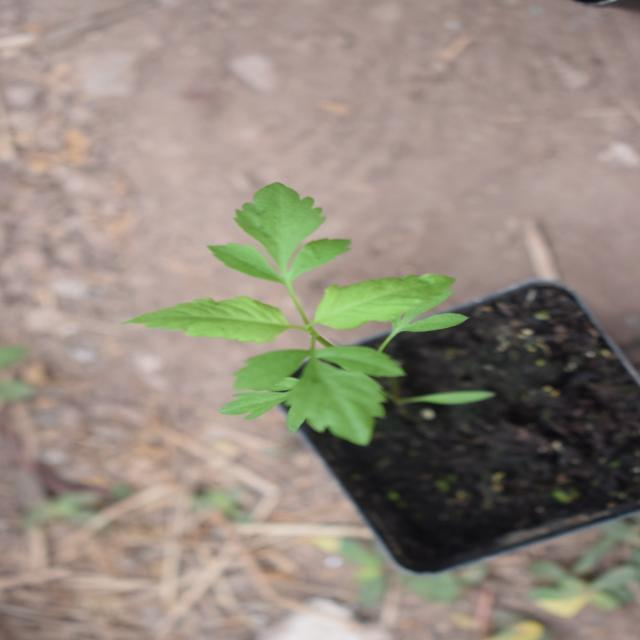Bidens pilosa: (189, 160, 460, 478)
